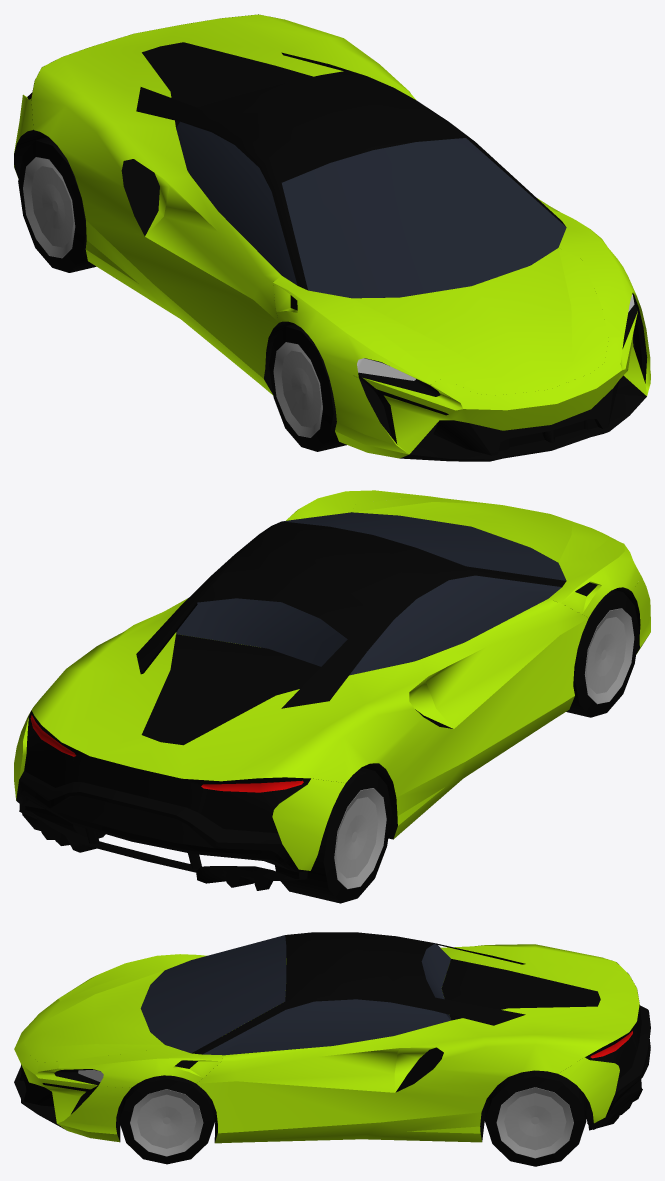
The model's file is car_artura.glb.
The picture shows the model from 3 angles, top to bottom: view 1: azimuth 30°, elevation 25°; view 2: azimuth 150°, elevation 25°; view 3: azimuth 270°, elevation 25°; orthographic projection. The views are drawn at different scales.
Visible parts, largest first — view 1: paint, glass, black_2, rim_BL, rim_FL, tire_BL, tire_FL, lamp_f; view 2: paint, black_2, glass, tire_BL, rim_BL, rim_FL, tire_FL, lamp_r, tire_BR; view 3: paint, black_2, glass, rim_BR, rim_FR, tire_BR, tire_FR.
Boxes of the visible parts, x1,y1,x2,y2 form: paint: (14, 14, 650, 458); glass: (176, 121, 566, 298); black_2: (14, 14, 647, 461); rim_BL: (23, 157, 75, 258); rim_FL: (273, 342, 322, 437); tire_BL: (18, 137, 96, 272); tire_FL: (269, 324, 346, 451); lamp_f: (357, 294, 634, 380); paint: (14, 490, 650, 870); black_2: (16, 521, 640, 890); glass: (176, 512, 566, 675); tire_BL: (275, 767, 391, 903); rim_BL: (334, 788, 386, 889); rim_FL: (584, 608, 634, 704); tire_FL: (566, 589, 639, 717); lamp_r: (30, 715, 303, 792); tire_BR: (22, 806, 105, 838); paint: (14, 944, 639, 1143); black_2: (14, 932, 650, 1142); glass: (140, 935, 450, 1055); rim_BR: (496, 1087, 573, 1158); rim_FR: (130, 1089, 203, 1156); tire_BR: (484, 1070, 586, 1166); tire_FR: (119, 1075, 215, 1164).
Size of the model in its own units: 1.91 by 1.23 by 4.54.
